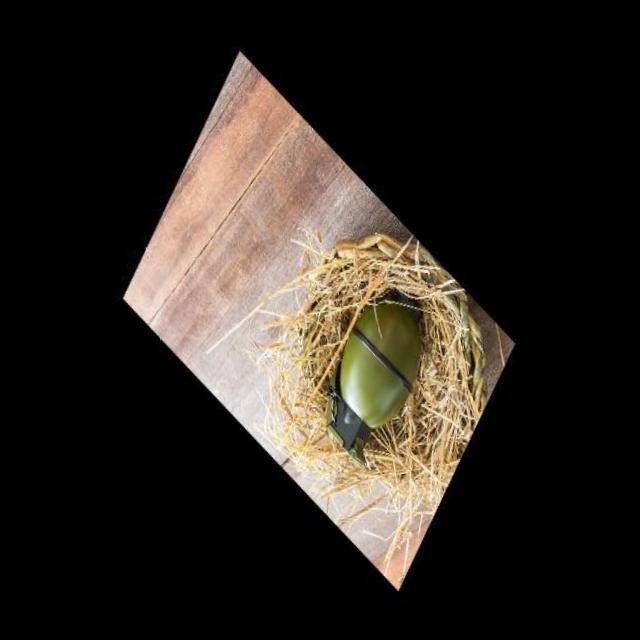grenade: (303, 285, 455, 475)
